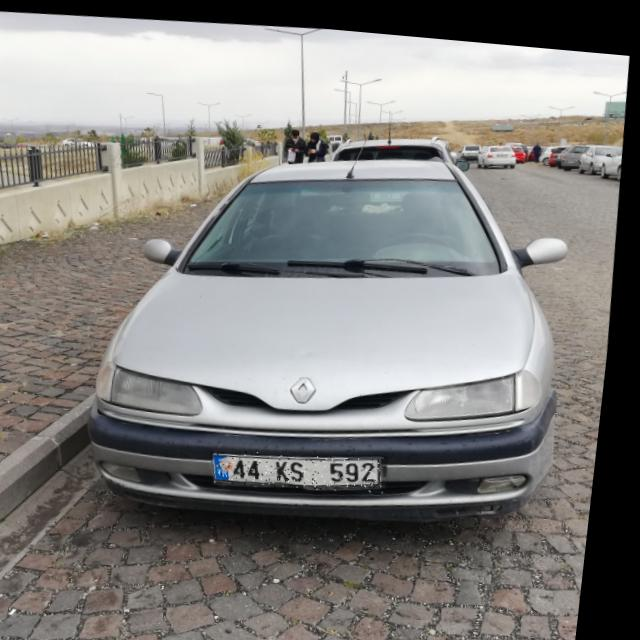license_plate: (221, 438, 397, 490)
